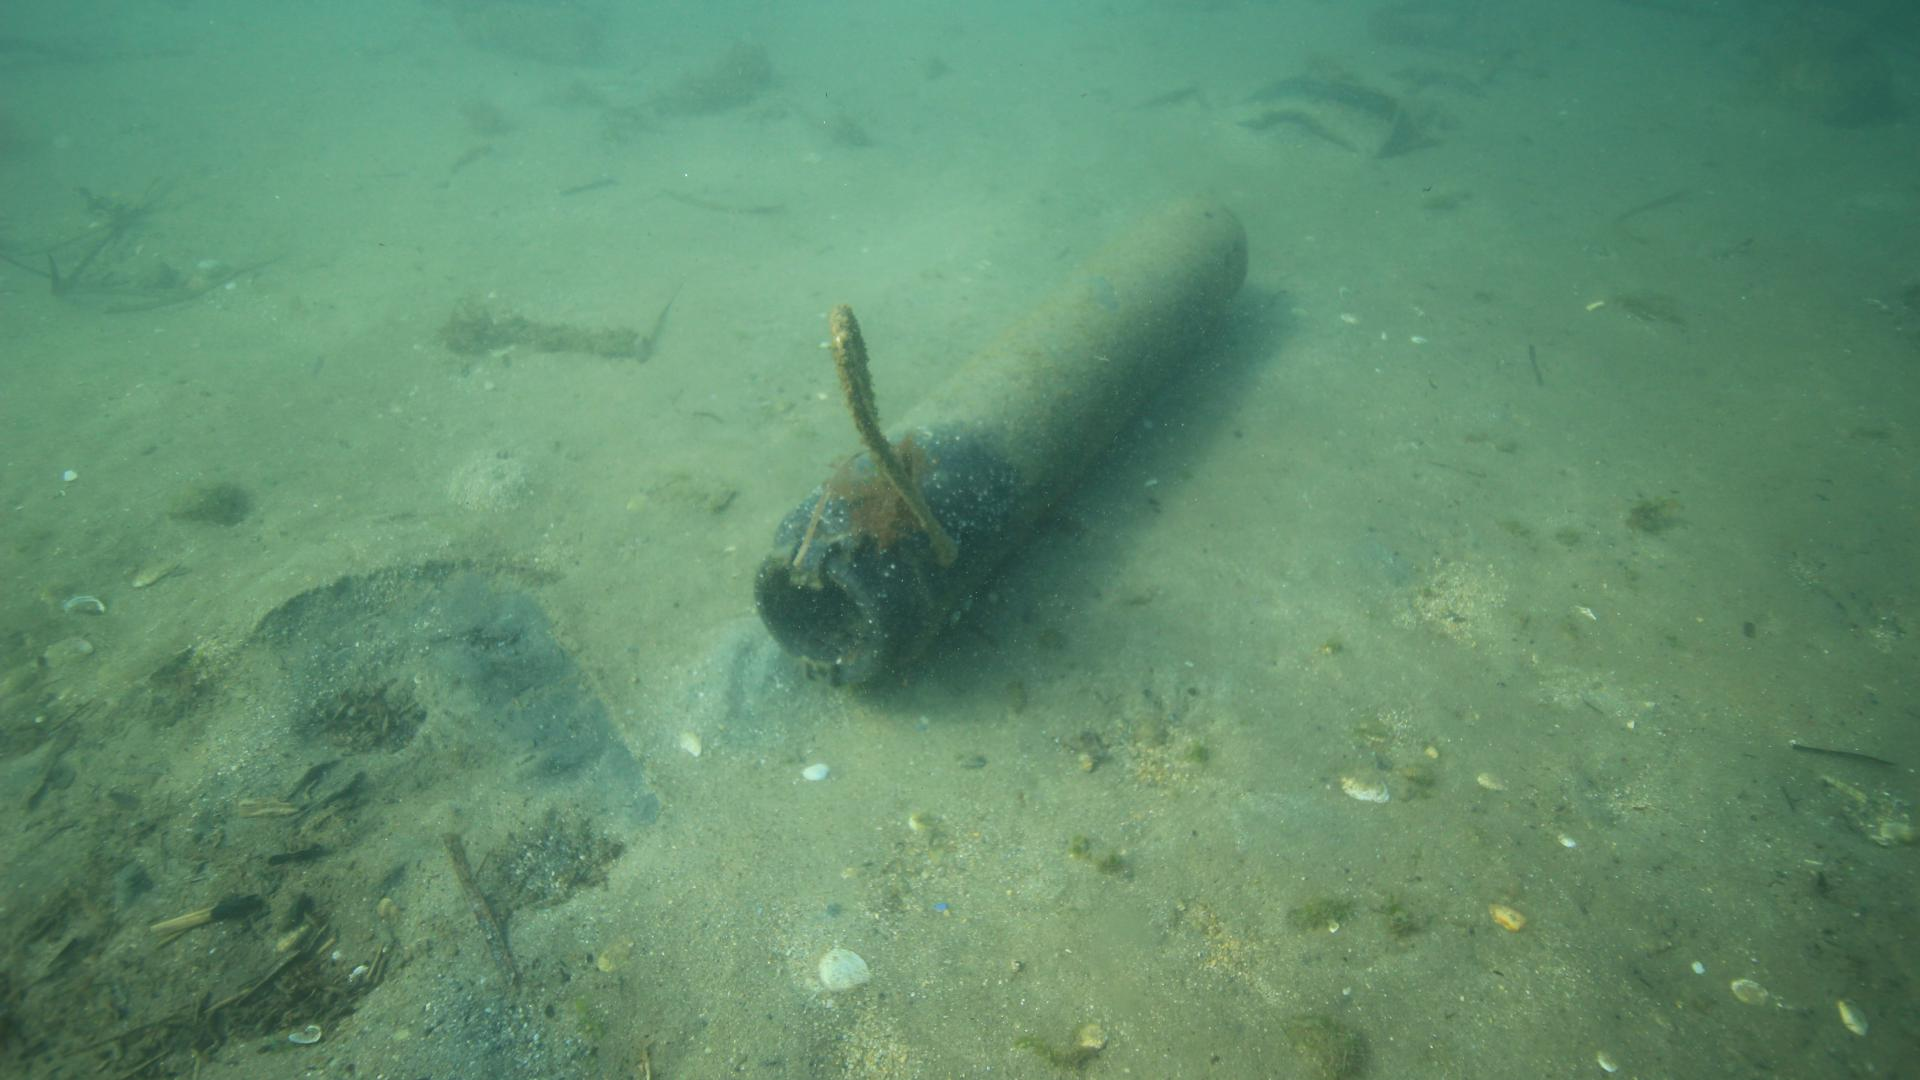eel fish trap: (748, 190, 1249, 684)
rope: (825, 299, 963, 568)
